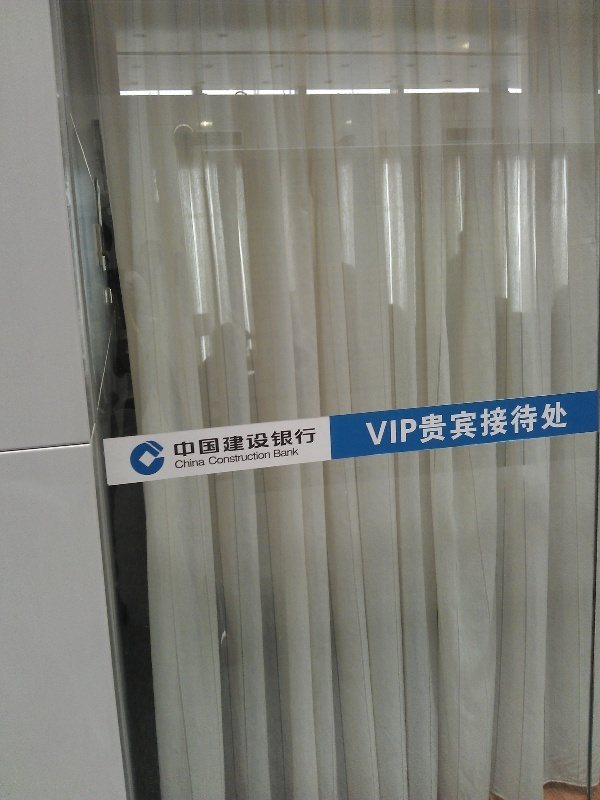text: (369, 399, 384, 450), (385, 399, 400, 450), (401, 399, 416, 450), (417, 399, 432, 450), (433, 399, 448, 450), (449, 399, 464, 450), (465, 399, 480, 450), (481, 399, 496, 450), (497, 399, 512, 450), (513, 399, 528, 450), (529, 399, 544, 450), (545, 399, 560, 450), (177, 426, 192, 460), (193, 426, 208, 460), (209, 426, 224, 460), (225, 426, 240, 460), (241, 426, 256, 460), (257, 426, 272, 460), (273, 426, 288, 460), (289, 426, 304, 460), (305, 426, 318, 460), (561, 399, 568, 450), (209, 451, 224, 466), (225, 451, 240, 466), (241, 451, 256, 466), (257, 451, 272, 466), (177, 456, 192, 470), (193, 456, 206, 470), (273, 447, 288, 459), (365, 399, 368, 450), (172, 426, 176, 460), (289, 447, 300, 459), (174, 456, 176, 470)
